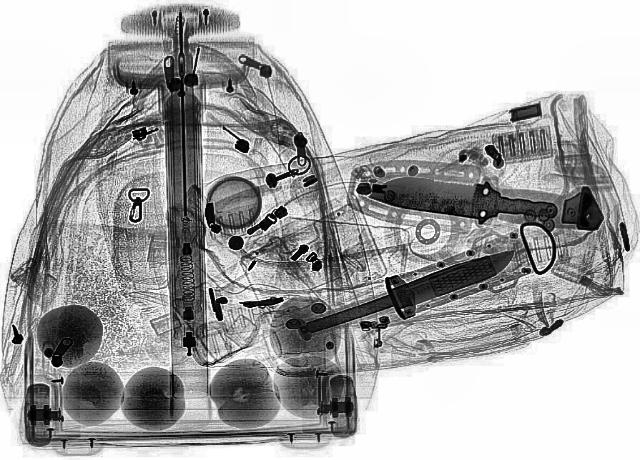Knife: (294, 244, 526, 340), (366, 170, 562, 228)
